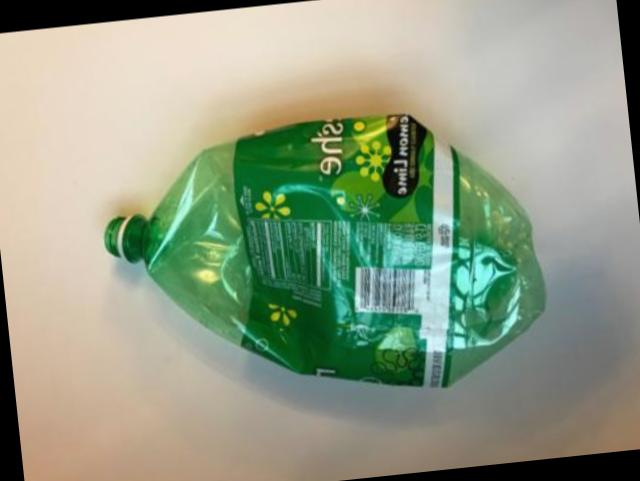plastic: (103, 116, 542, 388)
